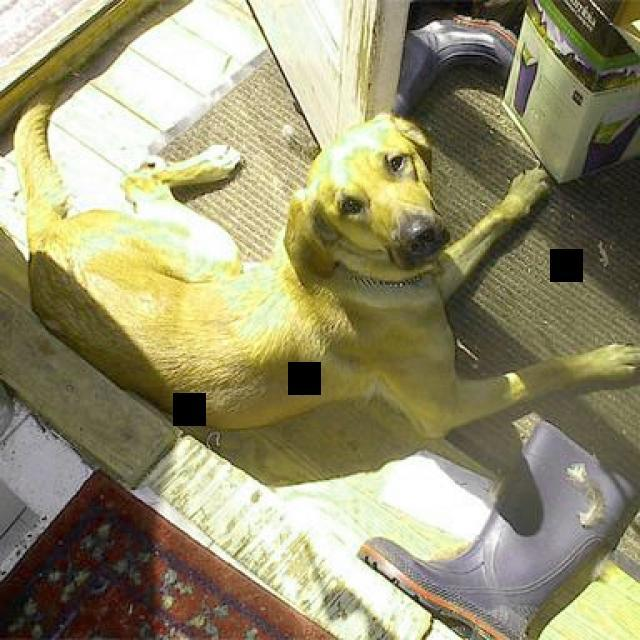adult_dog: (12, 80, 640, 443)
